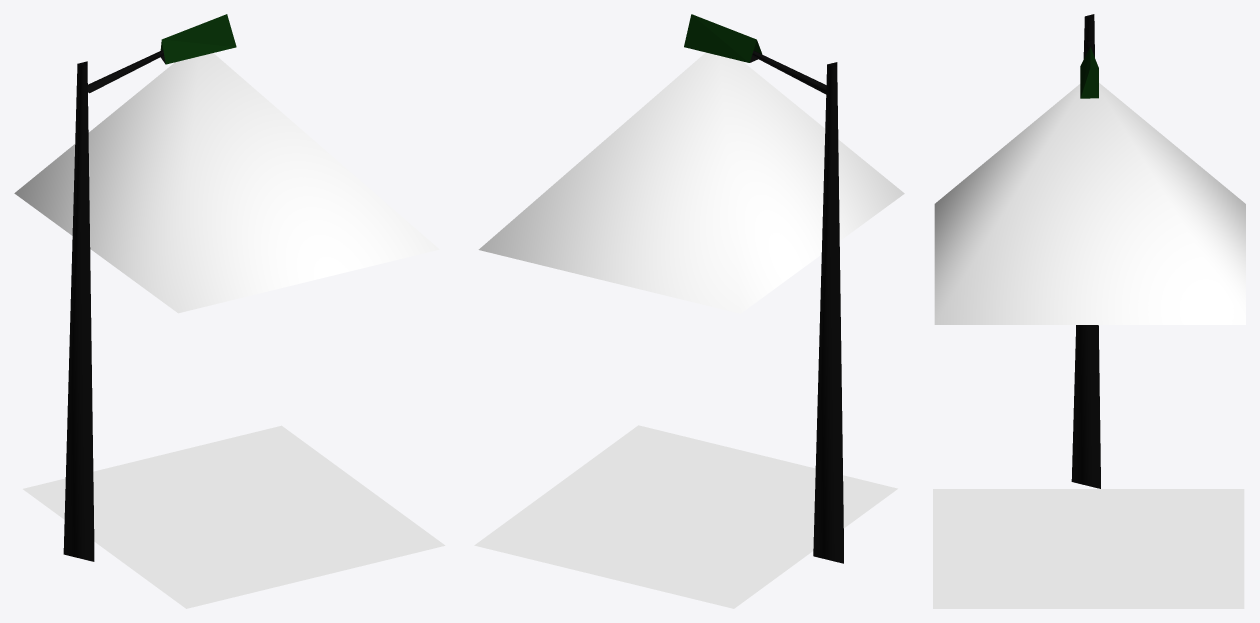
File: Cot_dien_dem.FBX
3 renders of one model, left to right at view 1: azimuth 30°, elevation 25°; view 2: azimuth 150°, elevation 25°; view 3: azimuth 270°, elevation 25°, orthographic. The views are drawn at different scales.
Visible parts, largest first — view 1: Cot_dien_dem; view 2: Cot_dien_dem; view 3: Cot_dien_dem.
Boxes of the visible parts, x1,y1,x2,y2 form: Cot_dien_dem: (14, 14, 445, 608); Cot_dien_dem: (474, 14, 904, 608); Cot_dien_dem: (933, 14, 1245, 608).
Size of the model in its own units: 4.43 by 7.29 by 4.3.
